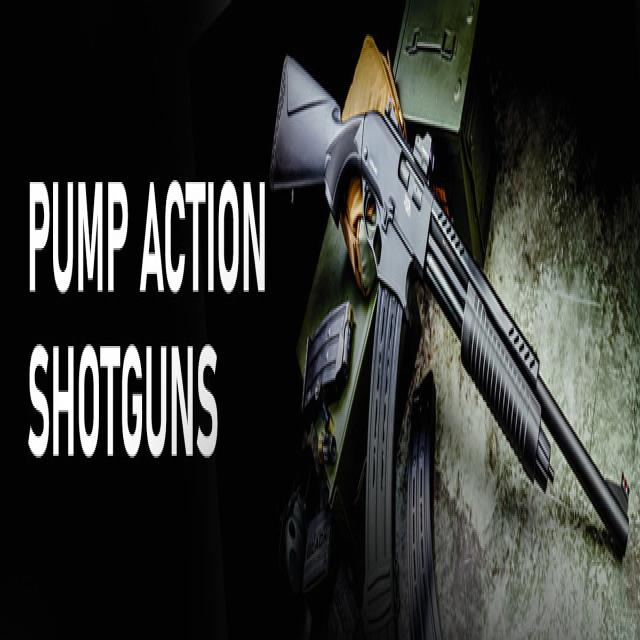ShotGun: (270, 56, 629, 560)
